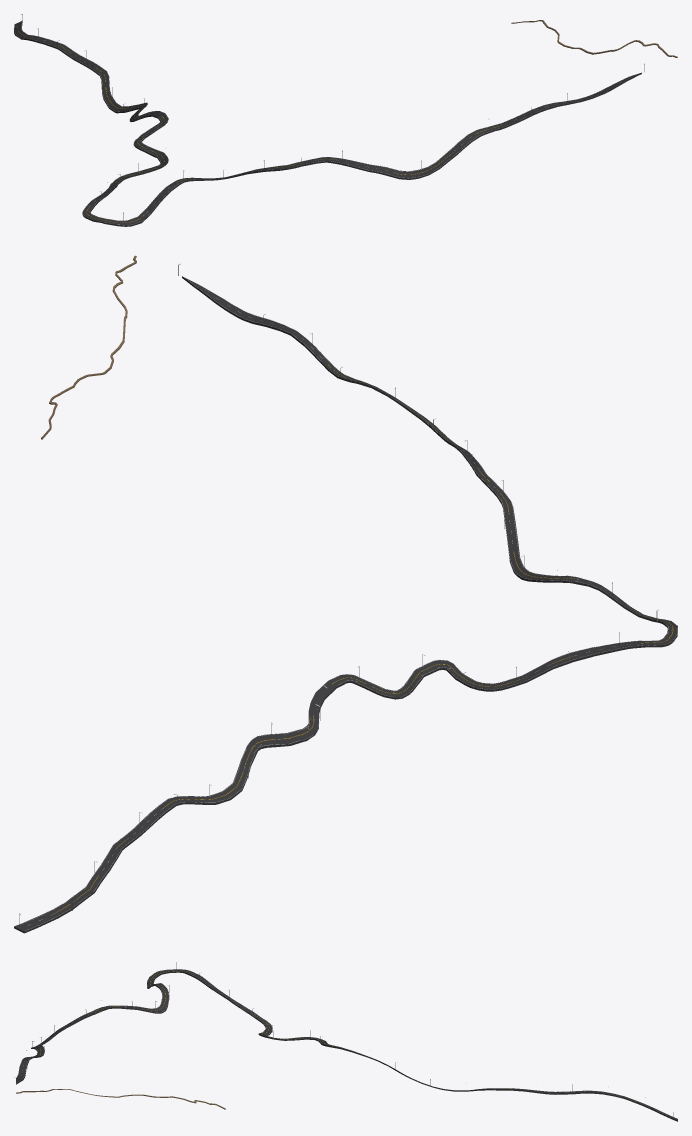
3 renders of one model, top to bottom at view 1: azimuth 30°, elevation 25°; view 2: azimuth 150°, elevation 25°; view 3: azimuth 270°, elevation 25°, orthographic. The views are drawn at different scales.
Size of the model in its own units: 452 by 149 by 585.
